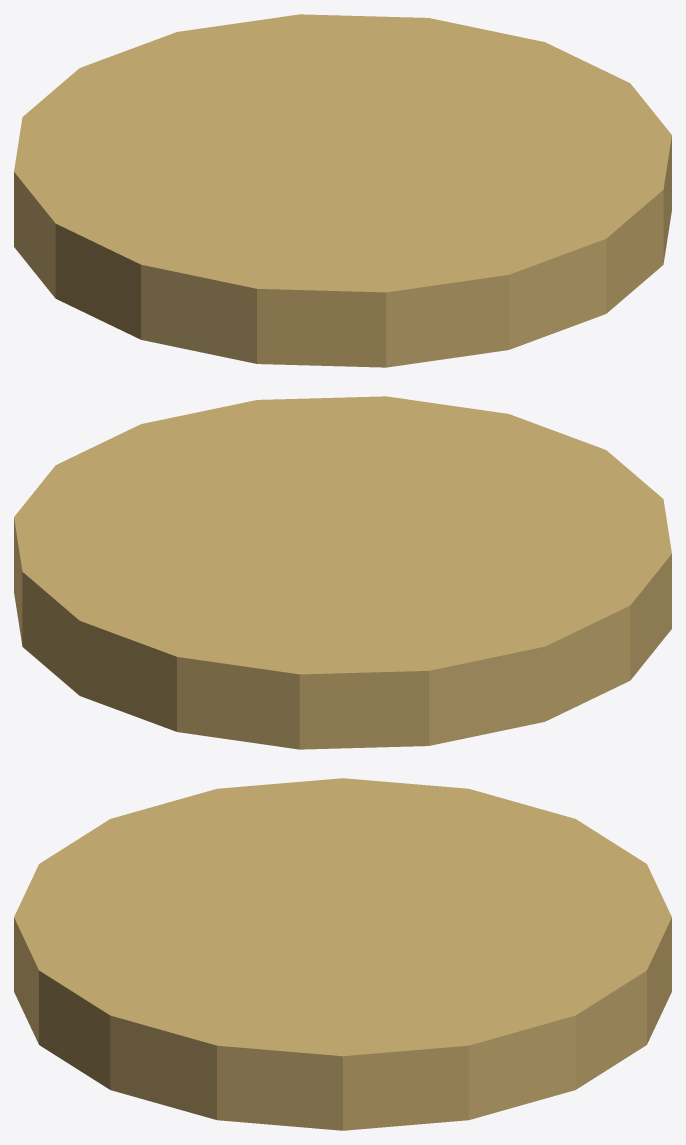
Rendered from wheel.dae.
3 views of the same model, one above another, from view 1: azimuth 30°, elevation 25°; view 2: azimuth 150°, elevation 25°; view 3: azimuth 270°, elevation 25° (orthographic).
Parts seen in each view (by area): view 1: Cylinder; view 2: Cylinder; view 3: Cylinder.
Part boxes in pixels (x1,y1,x2,y2): Cylinder: (14, 14, 671, 367); Cylinder: (14, 396, 671, 749); Cylinder: (14, 778, 671, 1130).
Size of the model in its own units: 0.08 by 0.08 by 0.01.
